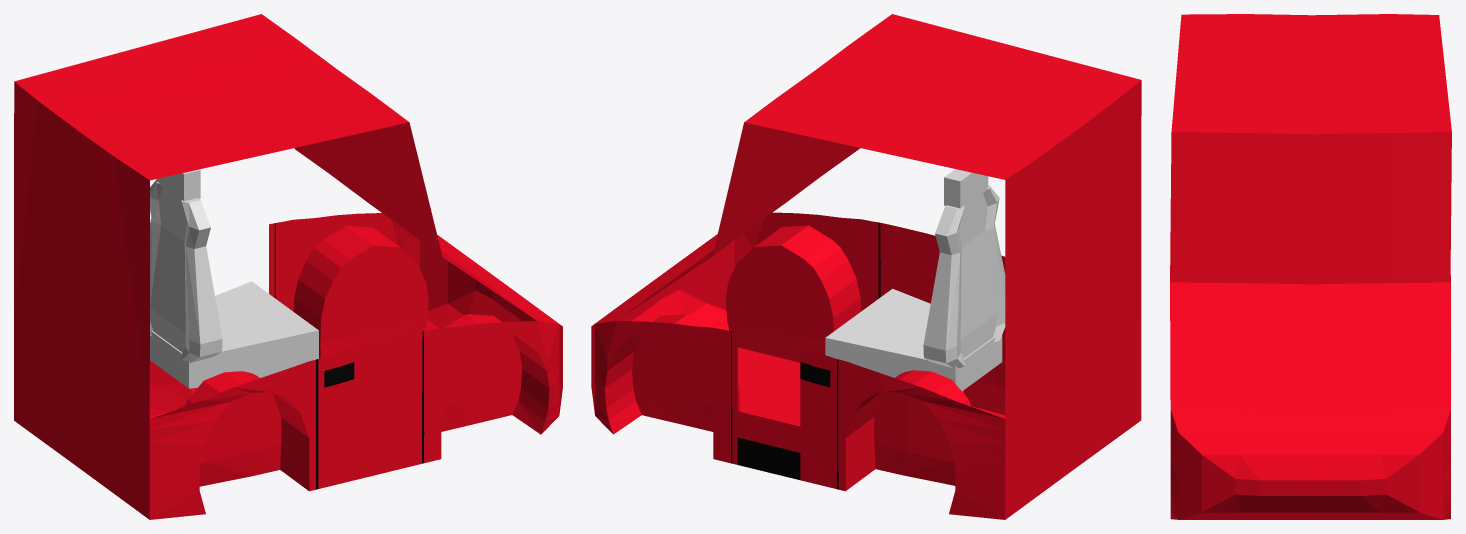
File: SamBotBandirma.dae
3 views of the same model, side by side, from view 1: azimuth 30°, elevation 25°; view 2: azimuth 150°, elevation 25°; view 3: azimuth 270°, elevation 25° (orthographic). The views are drawn at different scales.
Visible parts, largest first — view 1: Plane.001, Cube; view 2: Plane.001, Cube; view 3: Plane.001.
Boxes of the visible parts, x1,y1,x2,y2 form: Plane.001: (14,14,562,519); Cube: (150,169,318,388); Plane.001: (591,14,1141,519); Cube: (825,169,1005,391); Plane.001: (1170,14,1451,519).
Size of the model in its own units: 2.09 by 1.22 by 1.56.
